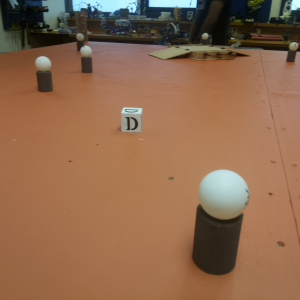blockD: (122, 107, 143, 133)
corner: (77, 11, 86, 32)
obstacle: (193, 170, 245, 274), (36, 55, 52, 92), (80, 46, 92, 72), (288, 42, 297, 64)
side: (192, 50, 235, 59)
slope: (151, 47, 190, 61)
